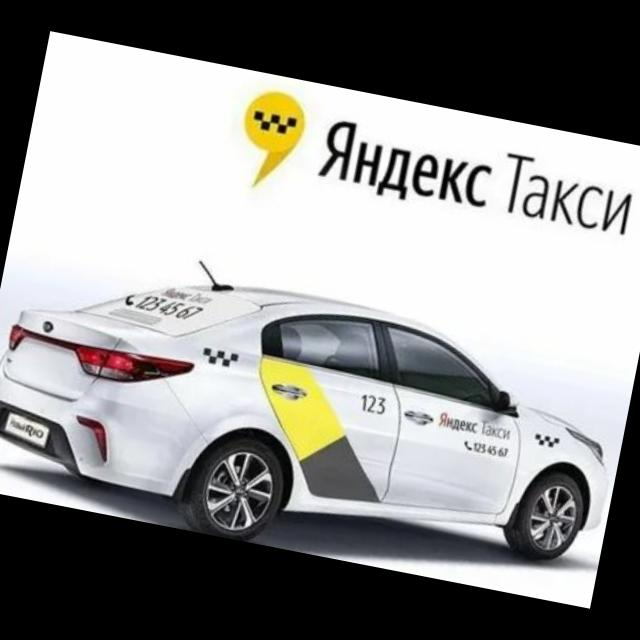taxi: (1, 225, 637, 609)
